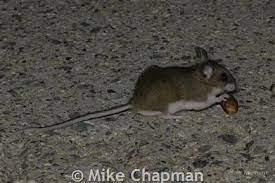rat: (23, 46, 237, 133)
